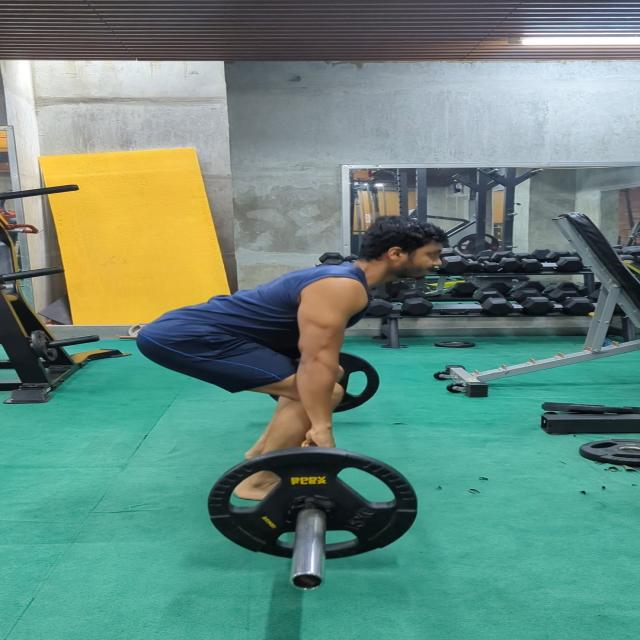Normal_Deadlifts: (130, 214, 453, 504)
